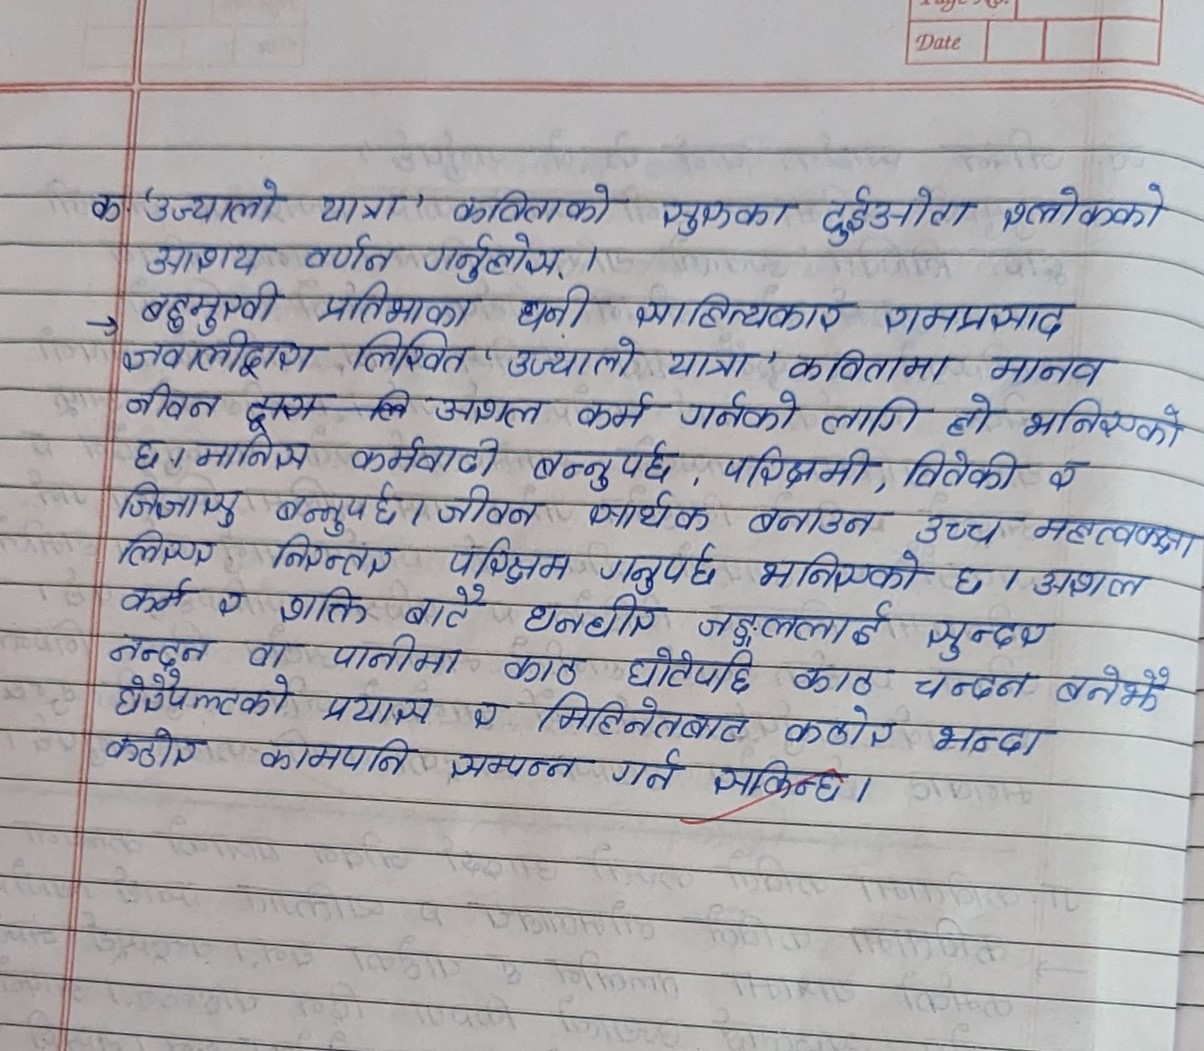text: (531, 692, 756, 747), (816, 175, 978, 250), (627, 284, 858, 336), (995, 184, 1168, 240), (751, 545, 924, 601), (691, 602, 898, 648), (118, 331, 318, 378), (1023, 393, 1190, 449), (106, 671, 298, 719), (876, 296, 1081, 340), (451, 180, 631, 230), (1029, 510, 1204, 560), (258, 732, 418, 785), (715, 442, 881, 491), (785, 342, 960, 387), (527, 440, 682, 490), (423, 232, 573, 283), (308, 282, 474, 329), (138, 279, 289, 330), (651, 195, 801, 246), (265, 480, 411, 531), (145, 175, 289, 226), (708, 757, 852, 808), (982, 345, 1137, 392), (344, 432, 503, 477), (503, 334, 642, 385), (527, 592, 673, 640), (1053, 659, 1177, 715), (442, 533, 576, 584), (923, 608, 1058, 659), (613, 648, 765, 693), (592, 540, 721, 592), (742, 500, 898, 542), (444, 746, 596, 789), (580, 489, 722, 535), (347, 329, 482, 377), (113, 479, 245, 528), (265, 530, 394, 579), (682, 386, 806, 436), (189, 431, 318, 479), (928, 718, 1063, 763), (910, 665, 1044, 710), (330, 633, 467, 677), (812, 392, 935, 439), (901, 444, 1021, 492), (422, 389, 553, 432), (318, 685, 437, 728), (782, 705, 896, 749), (515, 283, 610, 336), (145, 238, 276, 276), (1028, 568, 1159, 604), (121, 379, 228, 422), (303, 230, 405, 275), (912, 505, 1025, 545), (310, 182, 405, 230), (102, 725, 208, 768), (115, 528, 219, 571), (401, 582, 492, 631), (575, 388, 676, 432), (275, 584, 375, 628), (661, 342, 763, 385), (788, 658, 897, 698), (614, 749, 694, 802), (105, 631, 218, 668), (435, 488, 542, 526), (498, 649, 585, 690), (117, 575, 195, 620), (943, 394, 1008, 435), (243, 634, 307, 671), (1045, 452, 1091, 500), (123, 429, 170, 472), (945, 560, 995, 598), (466, 693, 505, 735), (88, 187, 126, 230), (208, 582, 250, 616)
